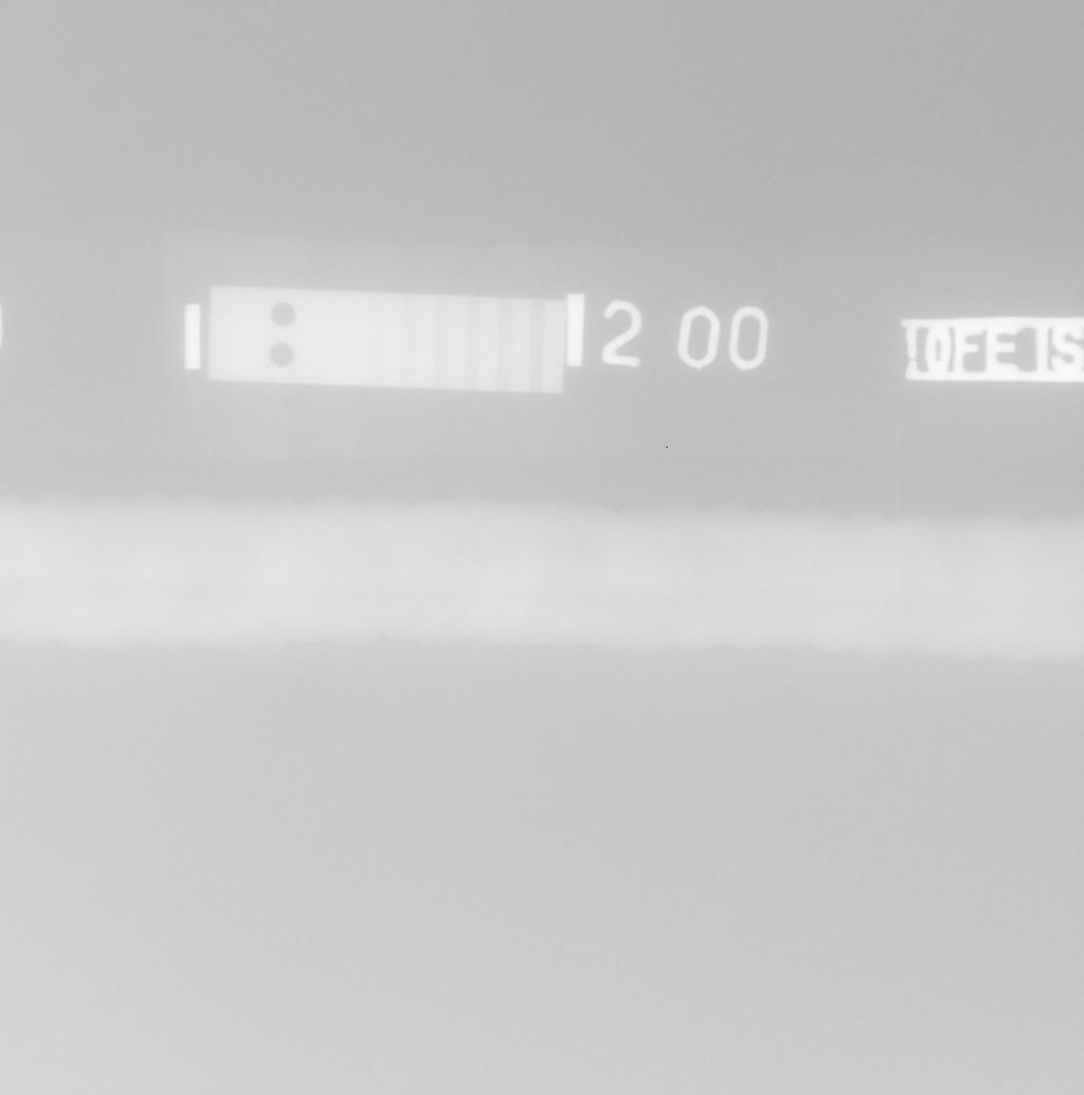Pore/Porosity: (90, 585, 95, 589), (722, 570, 727, 574)
Reference Standard 2: (208, 286, 565, 393)
Undercut: (618, 504, 626, 512)
